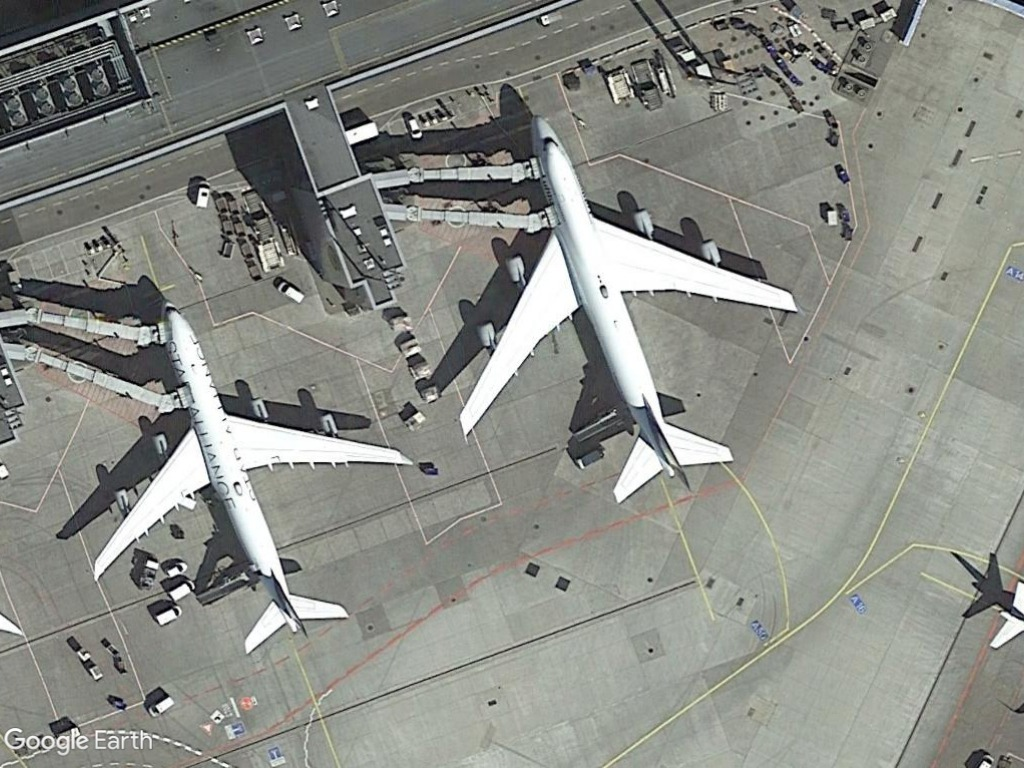airliner: (428, 114, 806, 515), (85, 297, 416, 654)
van: (271, 280, 306, 307), (145, 691, 176, 720), (192, 178, 213, 212)
